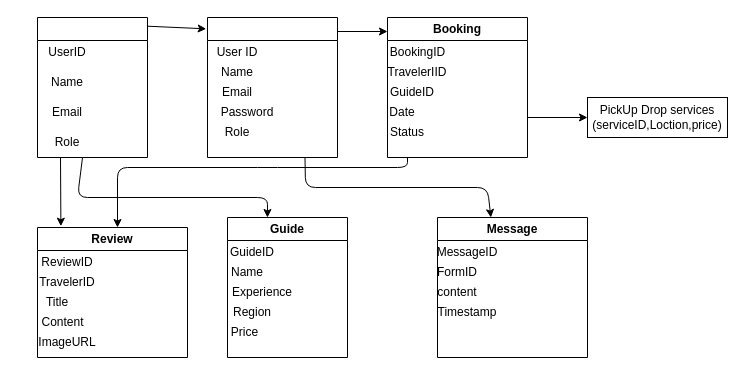
Some shapes in this 745 by 375 pixel diagram are drawn without their labels. The shapes that lost their labels are listed below. From the top down, each one's box as (x1, y1, x2, y2) in pixels, then its label:
(36, 16, 148, 158): Admin
(206, 16, 338, 158): Traveler
